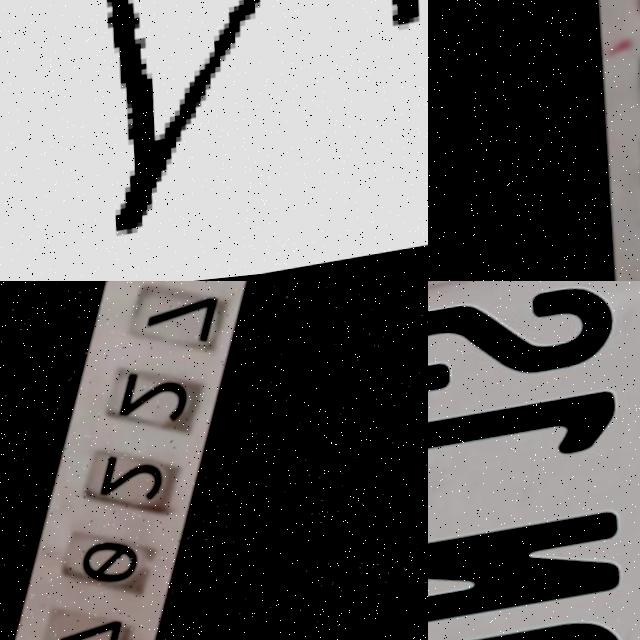0: (63, 530, 164, 614)
1: (428, 390, 618, 490)
2: (102, 360, 213, 457), (84, 446, 187, 535)
7: (129, 281, 236, 374), (41, 603, 144, 640)
N: (428, 516, 625, 636)
S: (428, 281, 617, 402)
Z: (51, 0, 428, 252)
